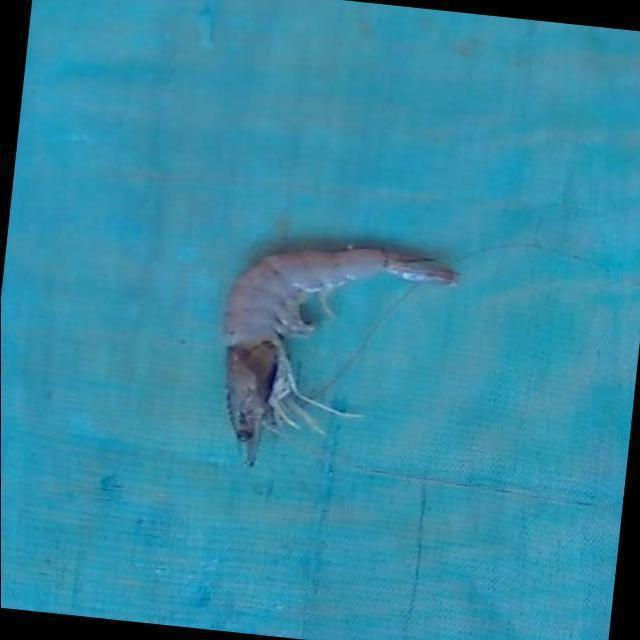shrimp: (223, 248, 458, 466)
